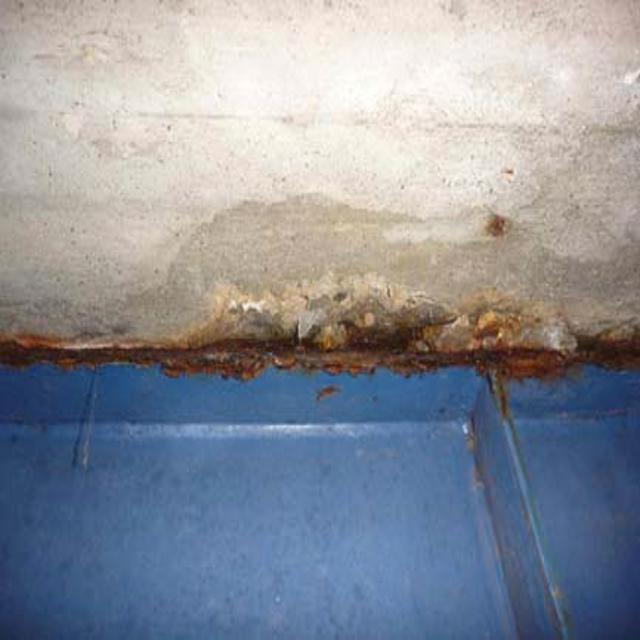corrosion: (18, 314, 640, 381)
